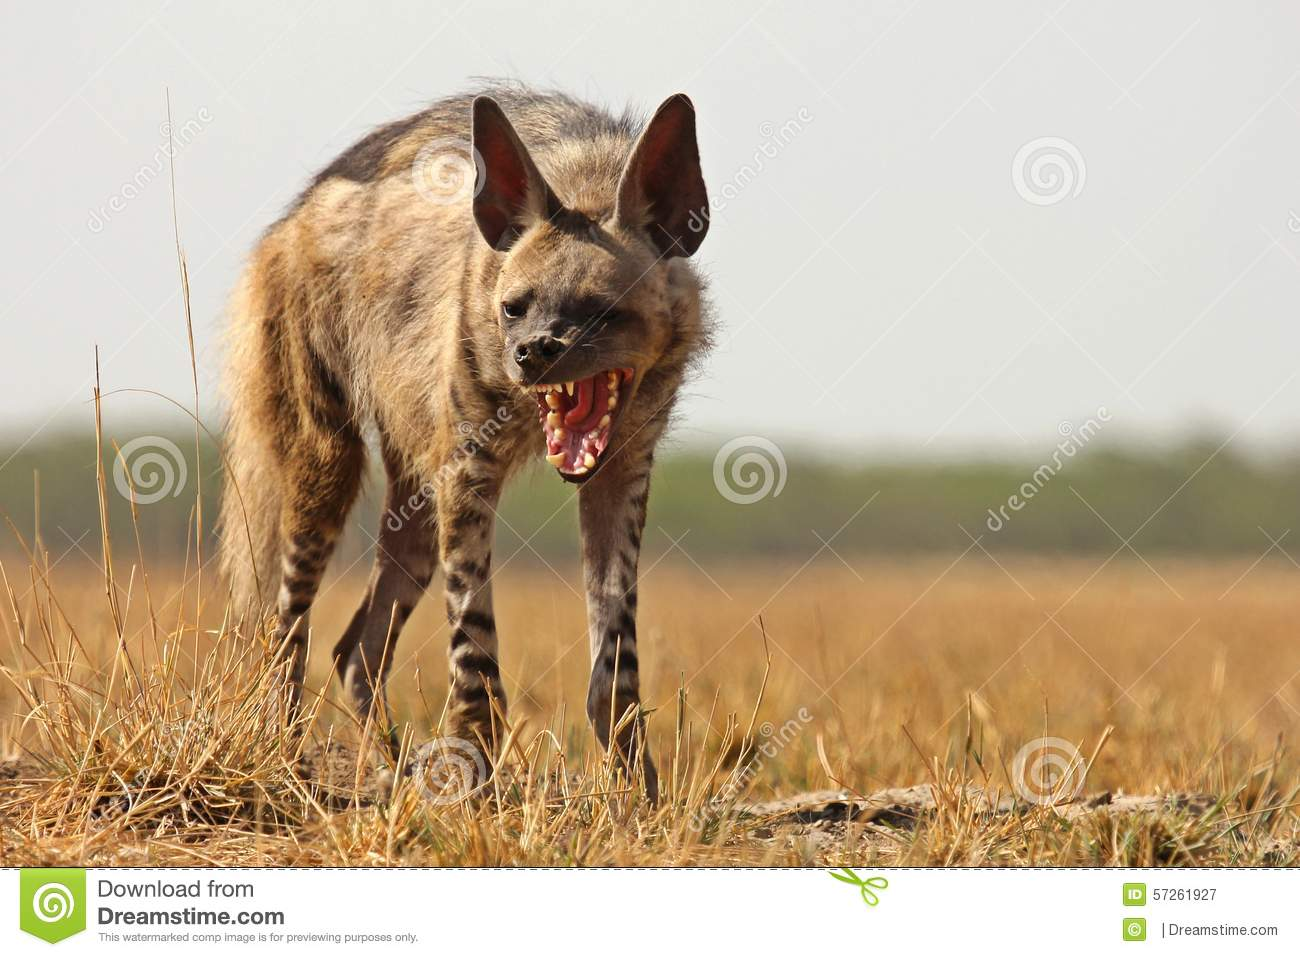hyena: (237, 72, 747, 809)
